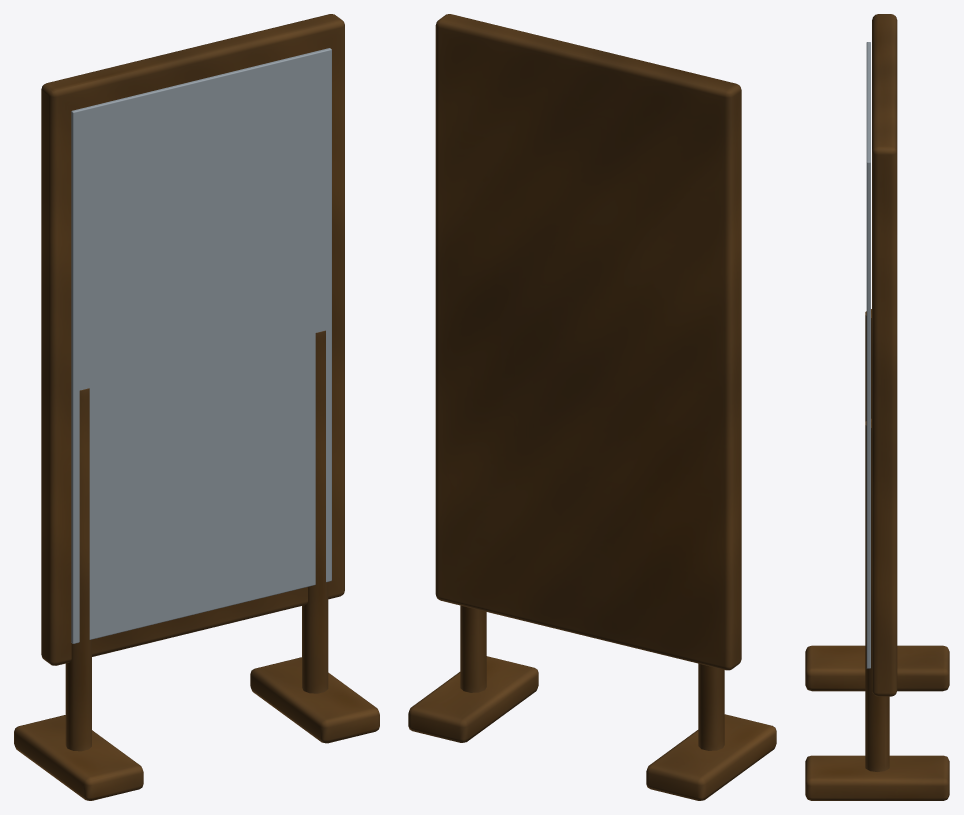
Rendered from Furn_Place_GrandMirror.fbx.
3 renders of one model, left to right at view 1: azimuth 30°, elevation 25°; view 2: azimuth 150°, elevation 25°; view 3: azimuth 270°, elevation 25°, orthographic. The views are drawn at different scales.
Visible parts, largest first — view 1: Furn_Place_GrandMirror; view 2: Furn_Place_GrandMirror; view 3: Furn_Place_GrandMirror.
Boxes of the visible parts, x1=… form: Furn_Place_GrandMirror: x1=14, y1=14, x2=379, y2=800; Furn_Place_GrandMirror: x1=408, y1=14, x2=776, y2=800; Furn_Place_GrandMirror: x1=805, y1=14, x2=949, y2=800.
Size of the model in its own units: 0.9 by 2 by 0.4.
Materials: 2 (2 with a texture image).
